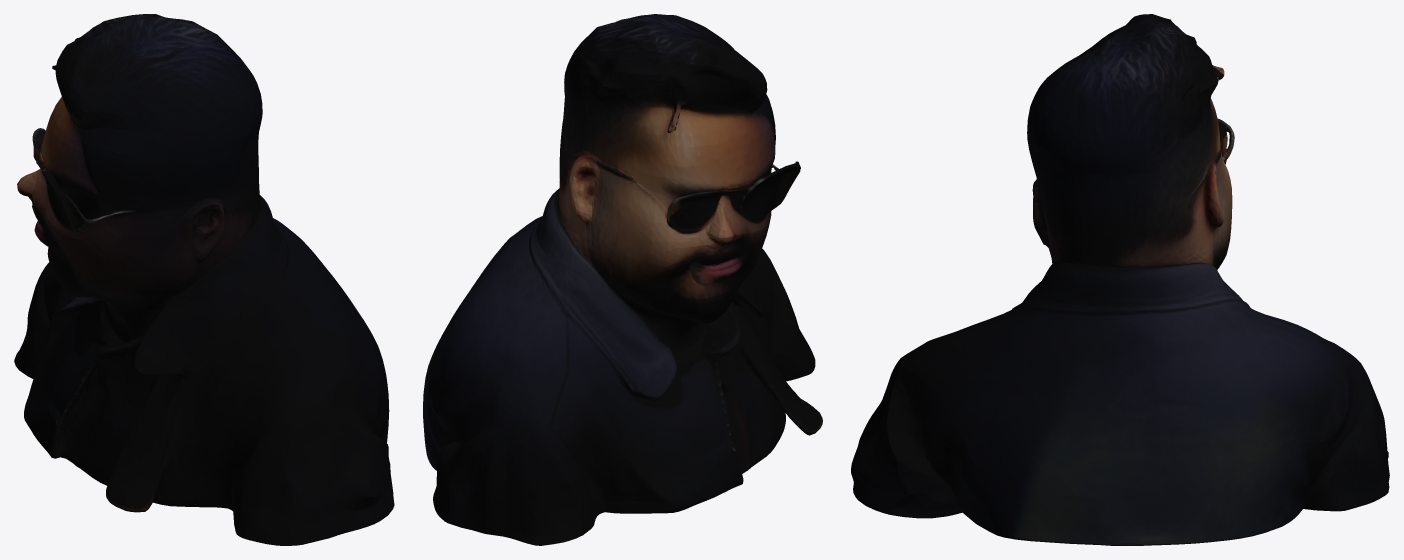
The model's file is main3.glb.
3 renders of one model, left to right at view 1: azimuth 30°, elevation 25°; view 2: azimuth 150°, elevation 25°; view 3: azimuth 270°, elevation 25°, orthographic. The views are drawn at different scales.
Parts seen in each view (by area): view 1: world; view 2: world; view 3: world.
Boxes of the visible parts, <box> form: world: <box>14,14,394,545</box>; world: <box>423,14,822,545</box>; world: <box>851,14,1389,545</box>.
Size of the model in its own units: 0.6526 by 0.8624 by 0.9943.
1 material, 1 textured.
